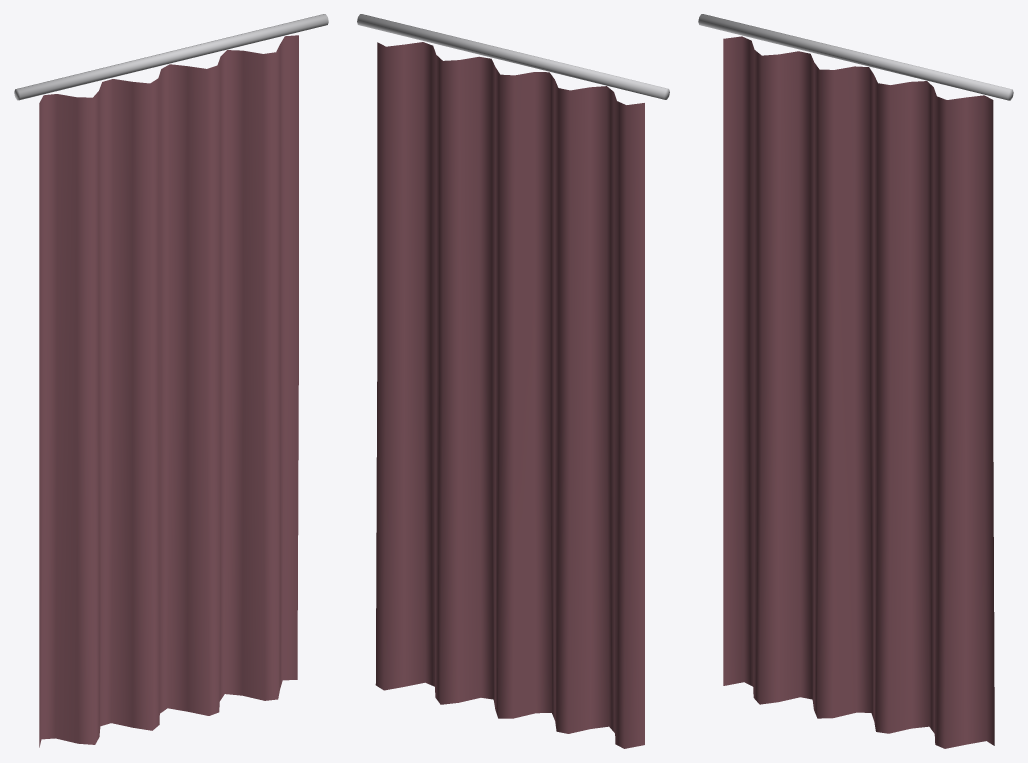
Rendered from curtain.glb.
3 renders of one model, left to right at view 1: azimuth 30°, elevation 25°; view 2: azimuth 150°, elevation 25°; view 3: azimuth 330°, elevation 25°, orthographic.
Parts seen in each view (by area): view 1: Curtain; view 2: Curtain; view 3: Curtain.
Boxes of the visible parts, x1=… form: Curtain: x1=14, y1=14, x2=328, y2=747; Curtain: x1=357, y1=14, x2=669, y2=748; Curtain: x1=698, y1=14, x2=1013, y2=748.
Size of the model in its own units: 0.7 by 1.44 by 0.0778.
